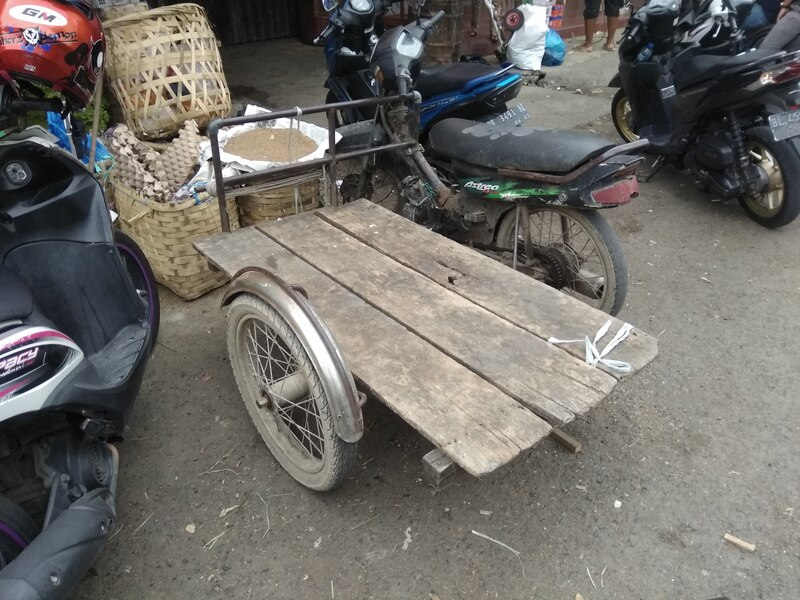becak barang: (199, 8, 663, 506)
